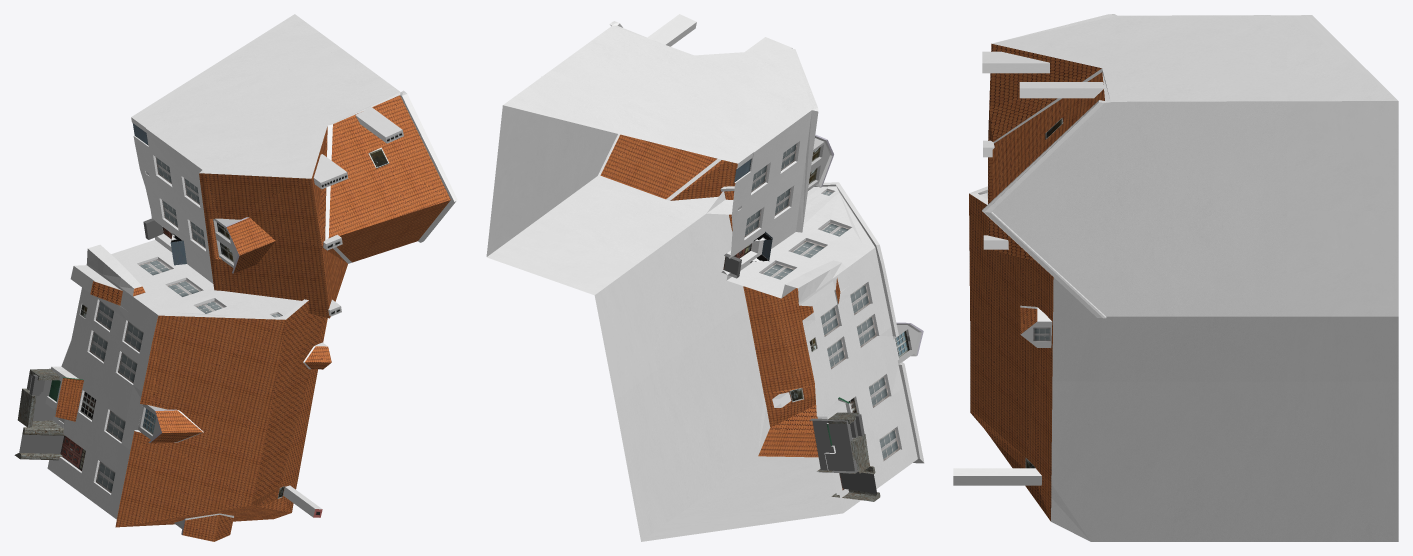
The model's file is Pyhavaimu_4.obj.
3 views of the same model, side by side, from view 1: azimuth 30°, elevation 25°; view 2: azimuth 150°, elevation 25°; view 3: azimuth 270°, elevation 25° (orthographic). The views are drawn at different scales.
Visible parts, largest first — view 1: Pyhavaimu_4; view 2: Pyhavaimu_4; view 3: Pyhavaimu_4.
Boxes of the visible parts, x1,y1,x2,y2 form: Pyhavaimu_4: (14,14,457,541); Pyhavaimu_4: (486,14,924,541); Pyhavaimu_4: (953,14,1398,541).
Bounding box in the file's own units: 22.33 × 24.58 × 18.71.
